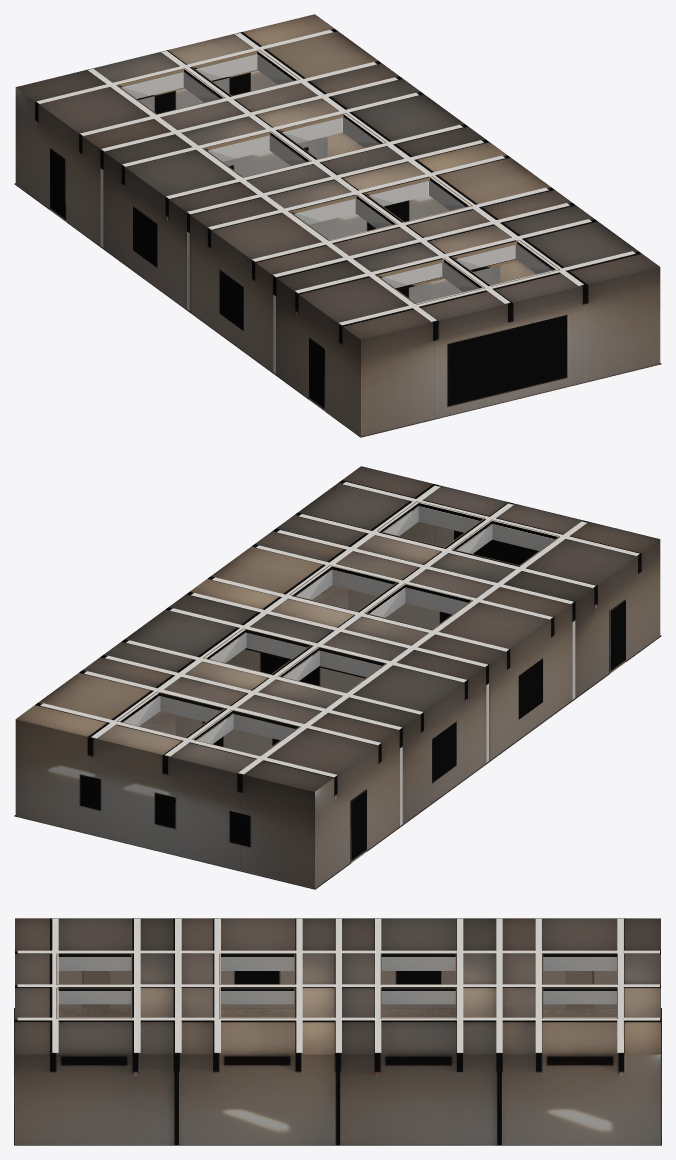
The picture shows the model from 3 angles, top to bottom: view 1: azimuth 30°, elevation 25°; view 2: azimuth 150°, elevation 25°; view 3: azimuth 270°, elevation 25°; orthographic projection. The views are drawn at different scales.
Visible parts, largest first — view 1: walls, celling, beams, walls_interior, lamps, floor; view 2: walls, celling, beams, walls_interior, lamps, floor; view 3: walls, celling, beams, lamps, floor.
Part boxes in pixels (x1,y1,x2,y2): walls: (14, 14, 661, 437); celling: (16, 14, 659, 339); beams: (36, 30, 635, 325); walls_interior: (100, 136, 500, 373); lamps: (36, 50, 559, 314); floor: (327, 132, 536, 283); walls: (14, 466, 661, 889); celling: (16, 466, 659, 791); beams: (40, 482, 639, 777); walls_interior: (175, 589, 575, 825); lamps: (116, 501, 596, 798); floor: (139, 585, 348, 734); walls: (14, 918, 661, 1145); celling: (15, 918, 660, 1054); beams: (17, 918, 659, 1052); lamps: (56, 953, 617, 1018); floor: (58, 1008, 616, 1017).
Size of the model in its own units: 10.08 by 3.1 by 20.07.
Materials: 7 (7 with a texture image).
